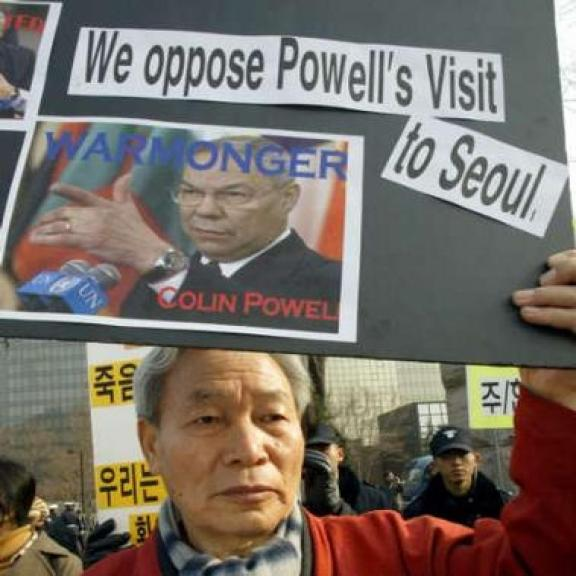face: (136, 354, 315, 536), (439, 445, 484, 490)
